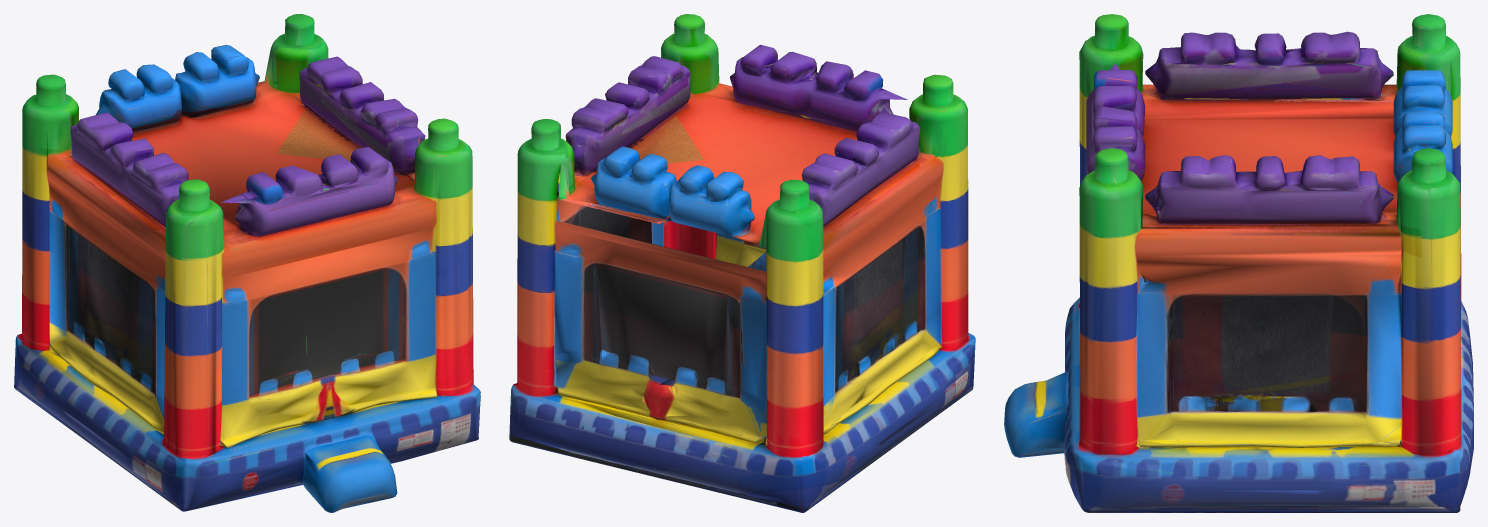
Rendered from bouncy_house_blocks__0125194510_texture.glb.
The picture shows the model from 3 angles, left to right: view 1: azimuth 30°, elevation 25°; view 2: azimuth 150°, elevation 25°; view 3: azimuth 270°, elevation 25°; orthographic projection. The views are drawn at different scales.
Parts seen in each view (by area): view 1: Mesh_0; view 2: Mesh_0; view 3: Mesh_0.
Boxes of the visible parts, x1,y1,x2,y2 form: Mesh_0: (14,14,480,512); Mesh_0: (509,14,975,512); Mesh_0: (1004,14,1473,512).
Size of the model in its own units: 4.54 by 4.36 by 5.22.
Materials: 1 (1 with a texture image).
